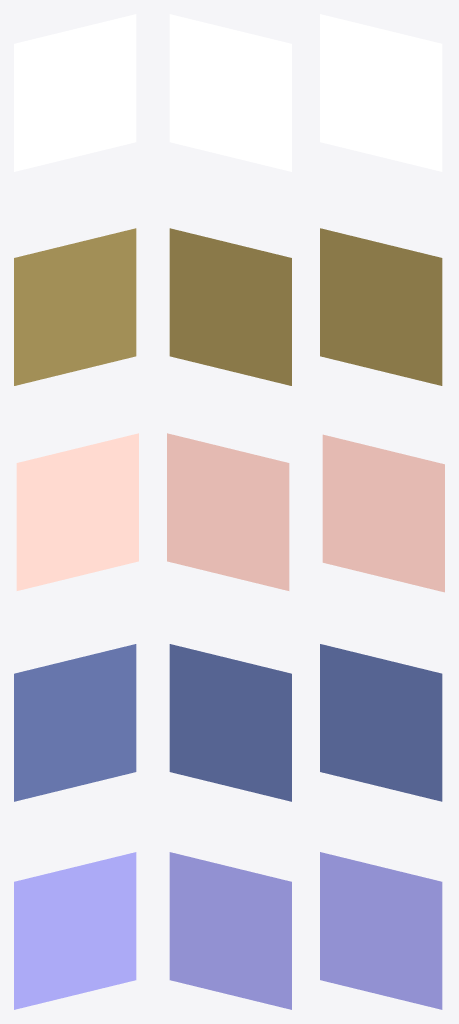
The model's file is leyendas.glb.
3 views of the same model, side by side, from view 1: azimuth 30°, elevation 25°; view 2: azimuth 150°, elevation 25°; view 3: azimuth 330°, elevation 25° (orthographic).
Visible parts, largest first — view 1: iconos_leyendas; view 2: iconos_leyendas; view 3: iconos_leyendas.
Part boxes in pixels (x1,y1,x2,y2): iconos_leyendas: (14,14,138,1009); iconos_leyendas: (167,14,291,1009); iconos_leyendas: (320,14,444,1009).
Size of the model in its own units: 0.053 by 0.3919 by 0.
